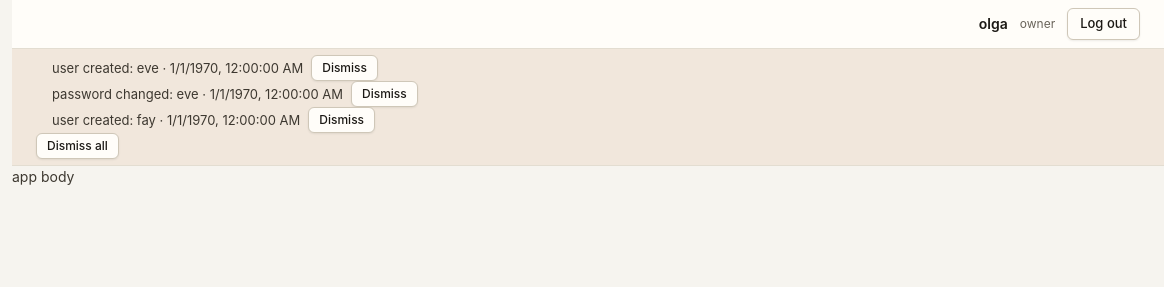
Scenario: AuthGate (spec §7) › drops an earlier refusal once Dismiss all succeeds
The width and height of the screenshot is (1164, 287).
Click the 1st button "Dismiss" at (345, 68), box top-left (311, 55), bottom-right (378, 81)
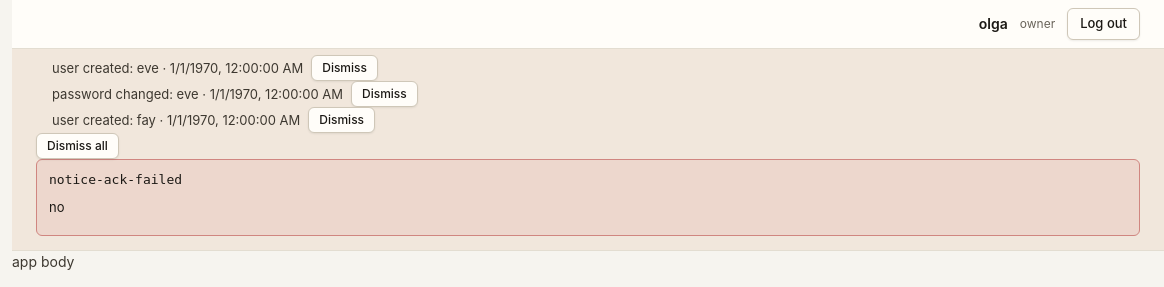
Expected: the text "notice-ack-failed" is shown, top-left (49, 172), bottom-right (182, 187)
Click the button "Dismiss all" at (77, 146), box top-left (36, 133), bottom-right (119, 159)
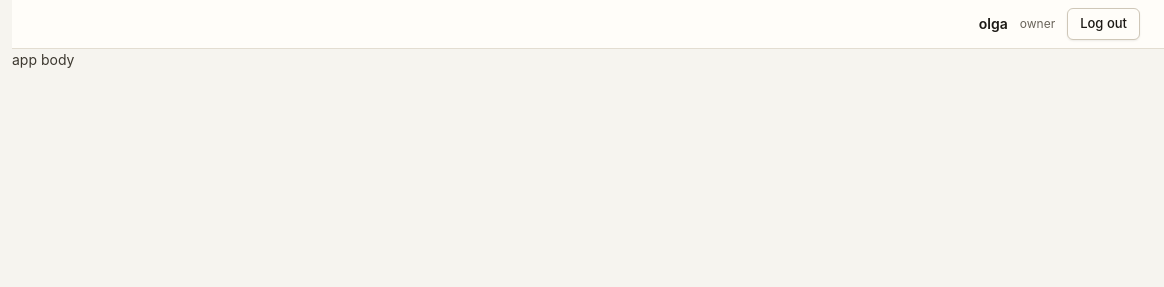
Expected: the element "security notices" is gone
